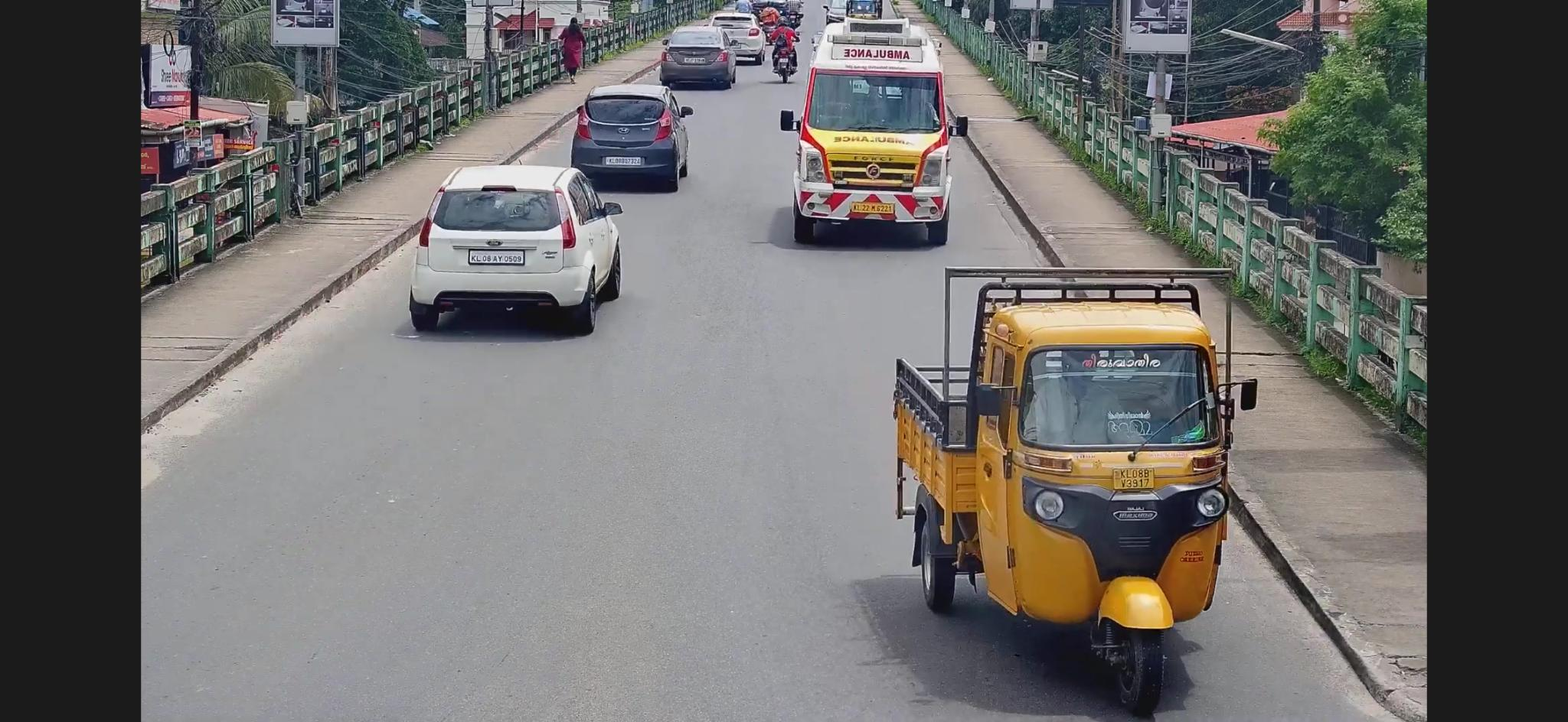ambulance: (793, 8, 954, 249)
